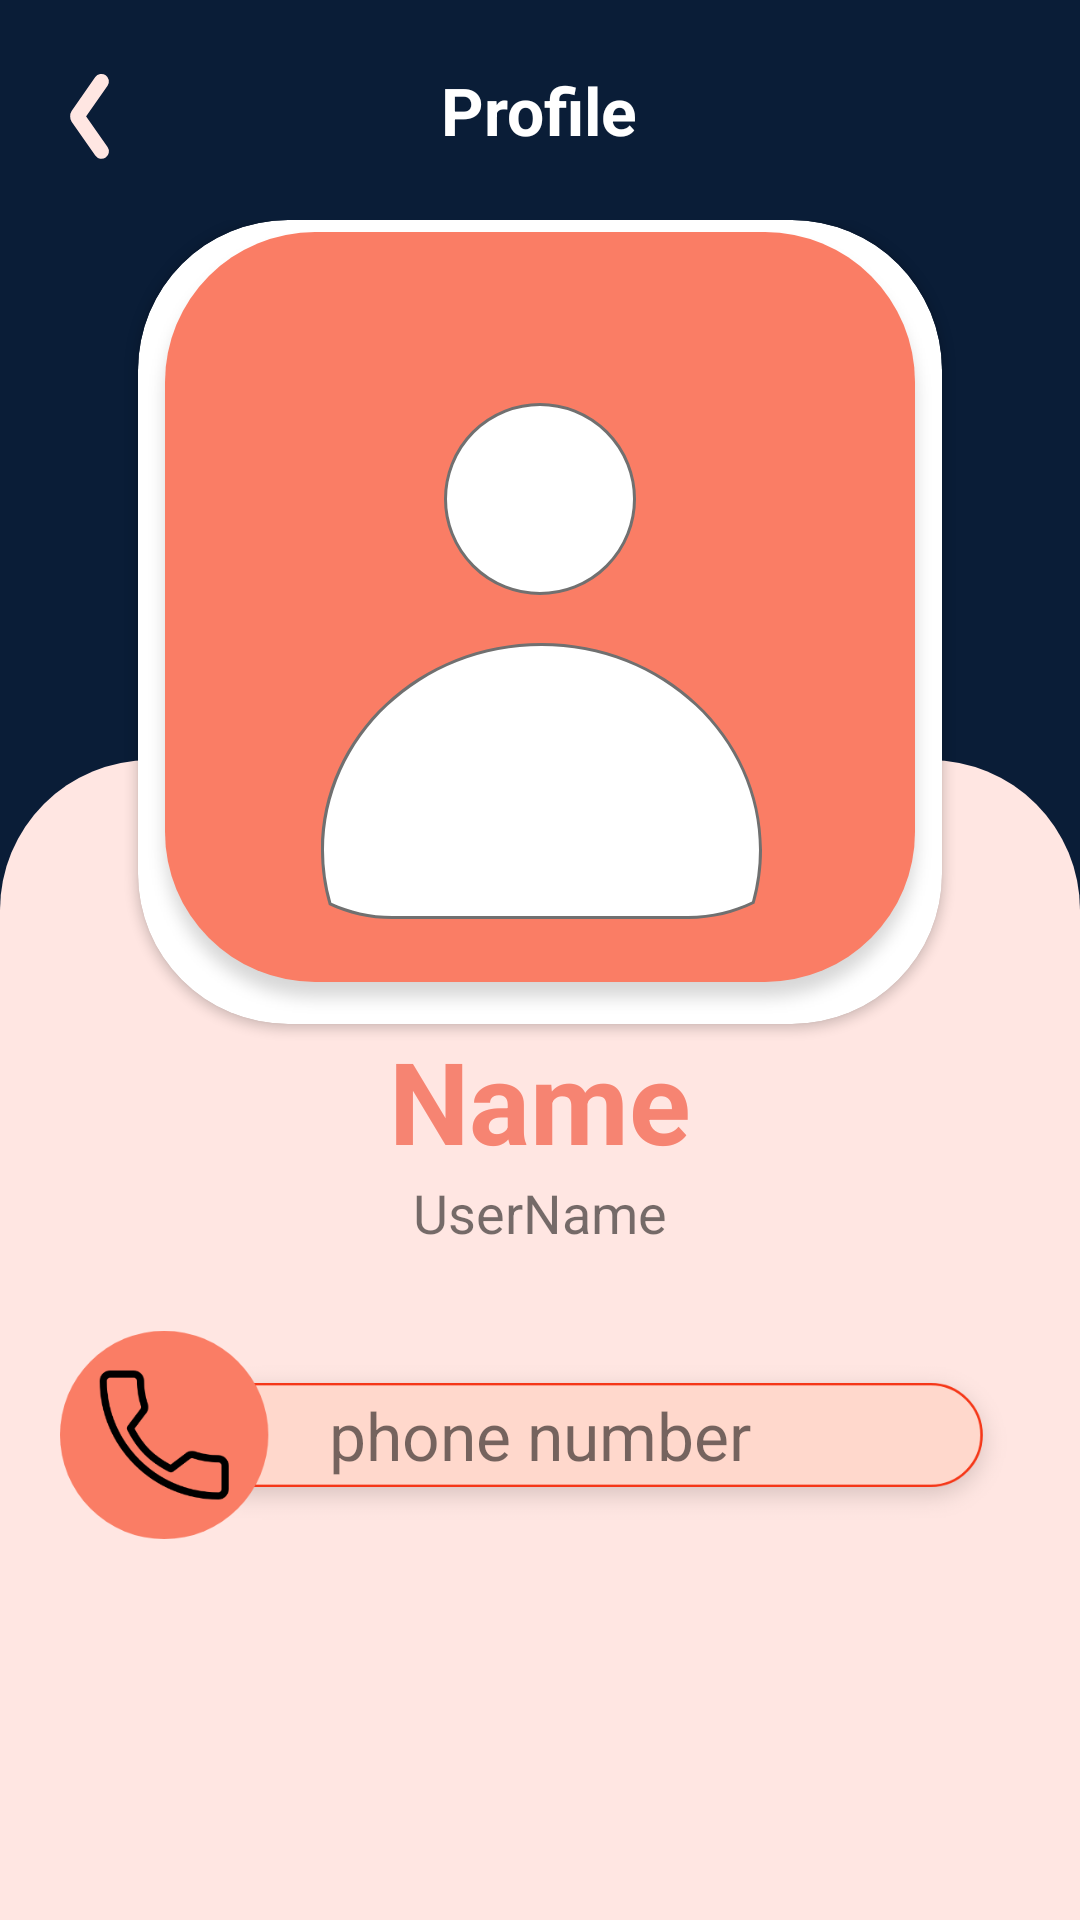

Locate icon controls on the screen. Image size 1080 x 1920, boxes as Rect(x1, y1, x2, y2).
back: Rect(70, 74, 109, 159)
